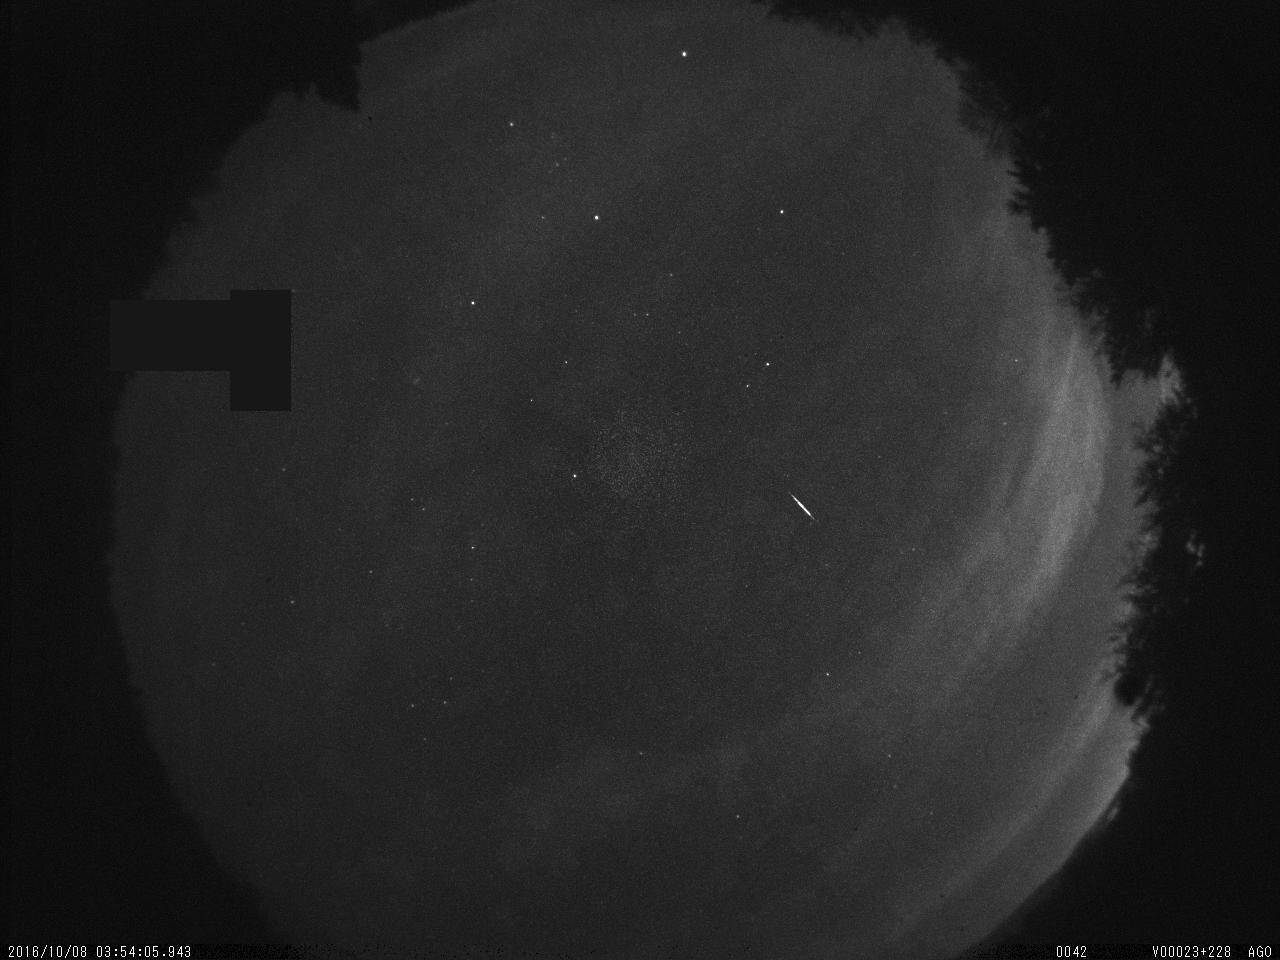meteor: (770, 478, 826, 527)
